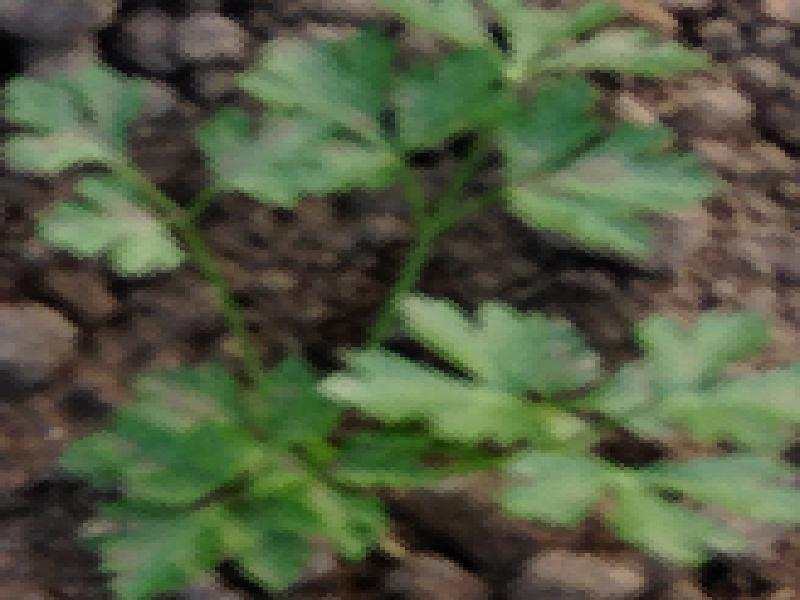radish: (57, 56, 743, 534)
